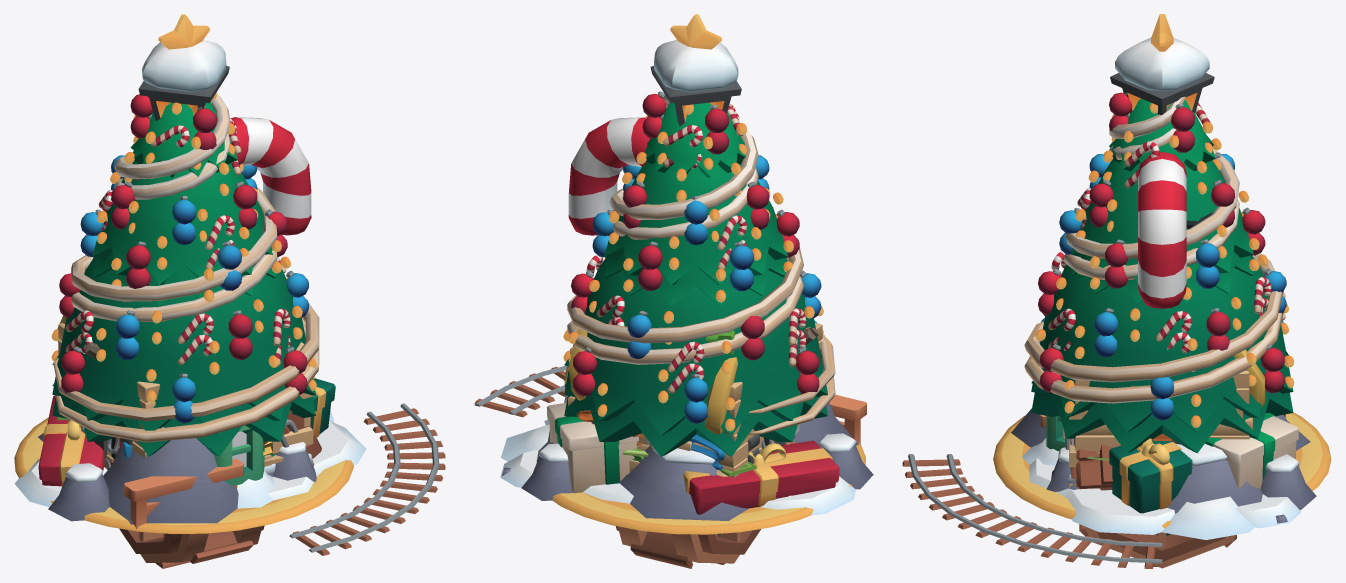
The model's file is props.glb.
The picture shows the model from 3 angles, left to right: view 1: azimuth 30°, elevation 25°; view 2: azimuth 150°, elevation 25°; view 3: azimuth 270°, elevation 25°; orthographic projection.
Parts seen in each view (by area): view 1: christmas_tree_decorated, christmas_tree, rocks-large, tracks_curve, candycane_large, lantern_decorated, snow-flat-large, watermill-wide, cabin-fence, cabin-window-large, Wood_Planks_Stack_Large, Containers_Pile_Large (+1 smaller); view 2: christmas_tree_decorated, christmas_tree, rocks-large, candycane_large, lantern_decorated, snow-flat-large, watermill-wide, tracks_curve, Gems_Chest, Wood_Planks_Stack_Large, cabin-fence, watermill (+2 smaller); view 3: christmas_tree_decorated, christmas_tree, rocks-large, candycane_large, tracks_curve, lantern_decorated, snow-flat-large, watermill-wide, Wood_Planks_Stack_Large, Containers_Pile_Large, cabin-window-large, Gems_Chest.
Part boxes in pixels (x1=…): christmas_tree_decorated: x1=14, y1=14, x2=353, y2=533; christmas_tree: x1=51, y1=114, x2=319, y2=456; rocks-large: x1=38, y1=410, x2=334, y2=524; tracks_curve: x1=289, y1=403, x2=445, y2=555; candycane_large: x1=231, y1=117, x2=311, y2=235; lantern_decorated: x1=134, y1=40, x2=229, y2=181; snow-flat-large: x1=14, y1=421, x2=366, y2=507; watermill-wide: x1=119, y1=473, x2=269, y2=568; cabin-fence: x1=124, y1=458, x2=243, y2=529; cabin-window-large: x1=213, y1=416, x2=266, y2=485; Wood_Planks_Stack_Large: x1=57, y1=323, x2=313, y2=468; Containers_Pile_Large: x1=69, y1=410, x2=321, y2=467; christmas_tree_decorated: x1=546, y1=14, x2=865, y2=534; christmas_tree: x1=563, y1=114, x2=835, y2=456; rocks-large: x1=501, y1=395, x2=873, y2=520; candycane_large: x1=568, y1=117, x2=650, y2=235; lantern_decorated: x1=650, y1=39, x2=741, y2=126; snow-flat-large: x1=500, y1=419, x2=855, y2=515; watermill-wide: x1=615, y1=526, x2=760, y2=568; tracks_curve: x1=474, y1=365, x2=567, y2=417; Gems_Chest: x1=568, y1=328, x2=737, y2=434; Wood_Planks_Stack_Large: x1=568, y1=323, x2=822, y2=477; cabin-fence: x1=829, y1=394, x2=866, y2=444; watermill: x1=627, y1=528, x2=730, y2=565; christmas_tree_decorated: x1=993, y1=14, x2=1331, y2=528; christmas_tree: x1=1024, y1=113, x2=1294, y2=453; rocks-large: x1=1011, y1=408, x2=1316, y2=539; candycane_large: x1=1138, y1=152, x2=1186, y2=308; tracks_curve: x1=902, y1=454, x2=1162, y2=568; lantern_decorated: x1=1110, y1=37, x2=1214, y2=114; snow-flat-large: x1=1029, y1=458, x2=1300, y2=534; watermill-wide: x1=1079, y1=524, x2=1236, y2=568; Wood_Planks_Stack_Large: x1=1069, y1=370, x2=1252, y2=488; Containers_Pile_Large: x1=1065, y1=434, x2=1113, y2=490; cabin-window-large: x1=1046, y1=415, x2=1065, y2=451; Gems_Chest: x1=1234, y1=349, x2=1265, y2=408.
Bounding box in the file's own units: 3.79 × 5.13 × 3.7.
6 materials, 5 textured.
